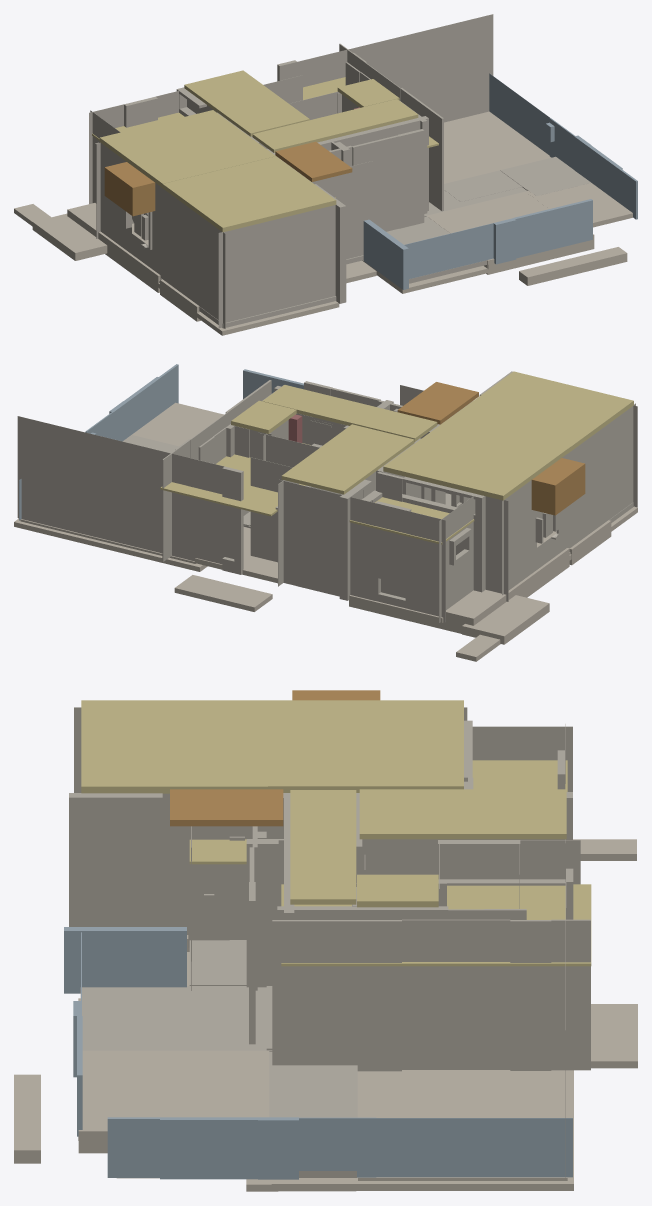
File: Soulace_L2_second_parts.dae
3 views of the same model, one above another, from view 1: azimuth 30°, elevation 25°; view 2: azimuth 150°, elevation 25°; view 3: azimuth 270°, elevation 25° (orthographic). The views are drawn at different scales.
Parts seen in each view (by area): view 1: wall_09, wall_07, wall_02, dropped_ceiling_00, dropped_ceiling_01, parapet_13, parapet_10, wall_18, floor_00, dropped_ceiling_03, dropped_ceiling_04, floor_18 (+29 smaller); view 2: wall_09, wall_06, wall_02, dropped_ceiling_01, dropped_ceiling_00, dropped_ceiling_03, dropped_ceiling_04, floor_15, parapet_10, wall_15, wall_05, wall_00 (+26 smaller); view 3: wall_20, parapet_10, wall_00, dropped_ceiling_01, dropped_ceiling_00, floor_18, floor_03_01, floor_00, dropped_ceiling_03, wall_04, dropped_ceiling_04, parapet_14 (+21 smaller).
Boxes of the visible parts, <box> form: wall_09: <box>277,14,493,122</box>; wall_07: <box>218,205,335,328</box>; wall_02: <box>99,141,225,328</box>; dropped_ceiling_00: <box>160,156,336,232</box>; dropped_ceiling_01: <box>99,110,275,185</box>; parapet_13: <box>404,199,592,278</box>; parapet_10: <box>489,73,637,219</box>; wall_18: <box>329,129,424,231</box>; floor_00: <box>444,111,550,183</box>; dropped_ceiling_03: <box>184,70,309,136</box>; dropped_ceiling_04: <box>252,99,418,152</box>; floor_18: <box>426,191,594,274</box>; wall_09: <box>17,416,243,574</box>; wall_06: <box>279,479,445,622</box>; wall_02: <box>502,403,635,595</box>; dropped_ceiling_01: <box>383,417,569,500</box>; dropped_ceiling_00: <box>450,371,633,453</box>; dropped_ceiling_03: <box>281,424,414,494</box>; dropped_ceiling_04: <box>262,385,437,441</box>; floor_15: <box>349,542,569,633</box>; parapet_10: <box>19,364,178,520</box>; wall_15: <box>439,496,475,622</box>; wall_05: <box>377,471,485,592</box>; wall_00: <box>339,371,512,600</box>; wall_20: <box>272,919,590,1071</box>; parapet_10: <box>107,1117,572,1179</box>; wall_00: <box>69,792,572,947</box>; dropped_ceiling_01: <box>268,700,463,792</box>; dropped_ceiling_00: <box>81,700,276,793</box>; floor_18: <box>78,1050,269,1153</box>; floor_03_01: <box>80,986,272,1051</box>; floor_00: <box>358,1070,567,1180</box>; dropped_ceiling_03: <box>359,789,566,839</box>; wall_04: <box>246,839,580,987</box>; dropped_ceiling_04: <box>290,790,356,904</box>; parapet_14: <box>64,927,186,993</box>.
Bounding box in the file's own units: 16.06 × 12.12 × 3.75.
